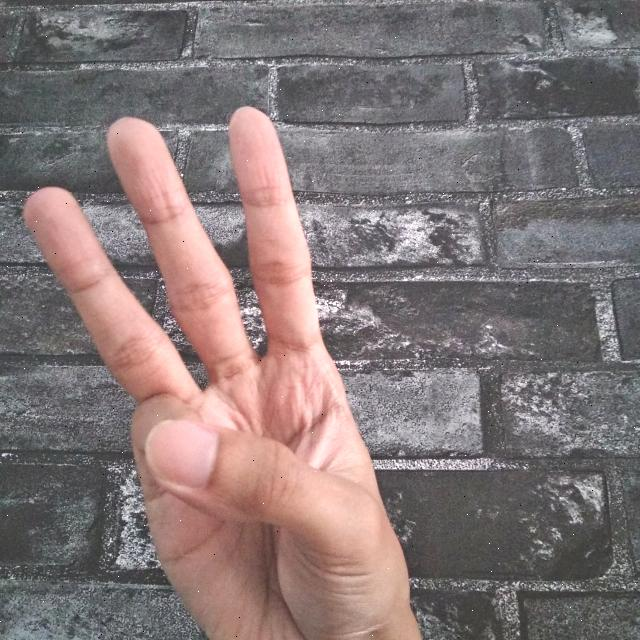W: (6, 101, 422, 640)
